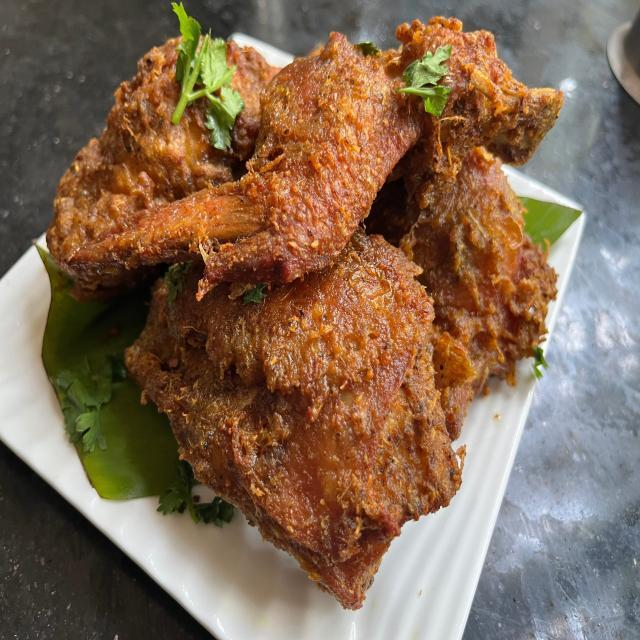ayam_goreng: (44, 5, 572, 589)
